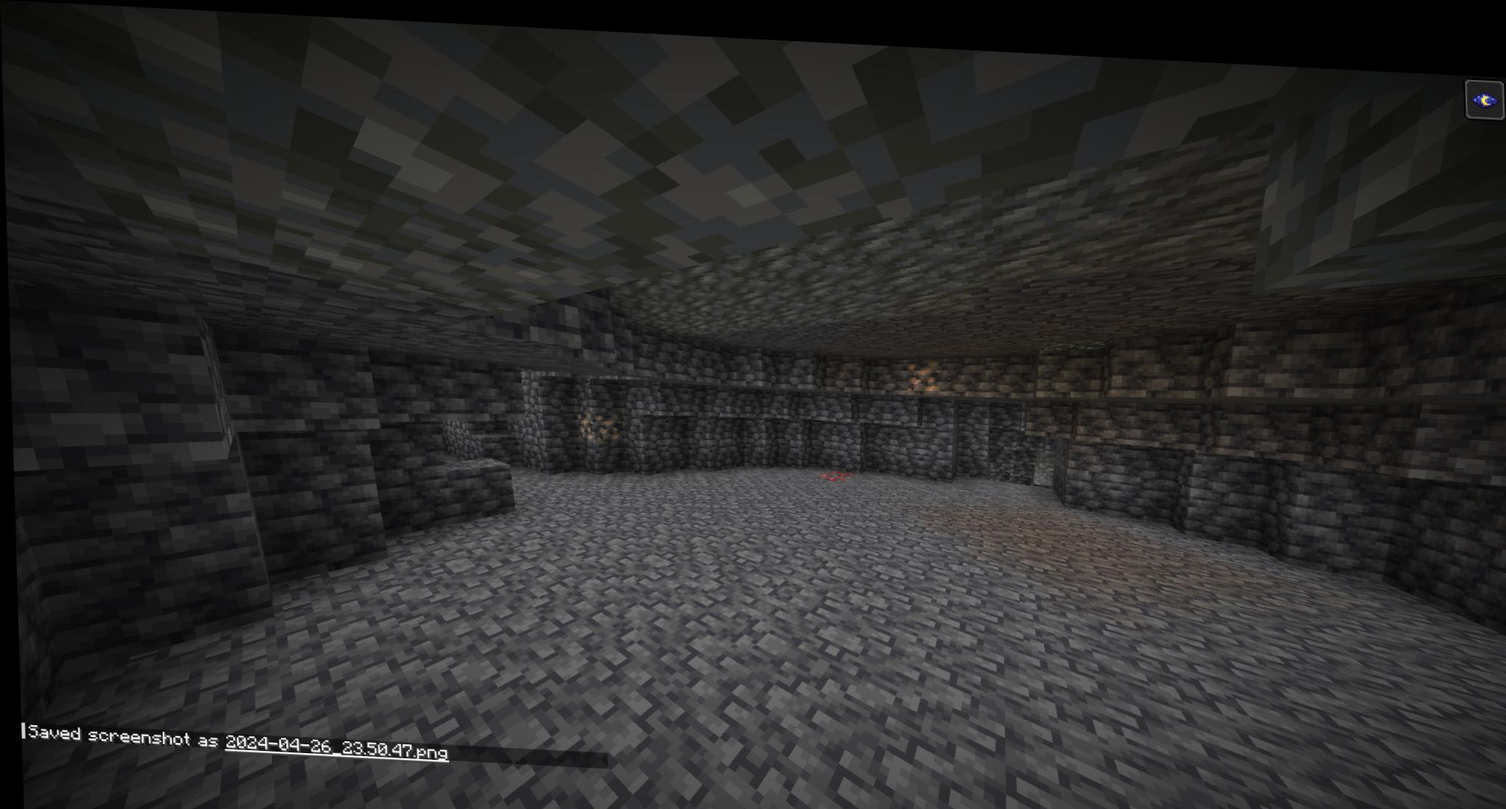iron ore: (567, 400, 615, 436), (905, 345, 942, 384)
redstone ore: (812, 454, 854, 480)
